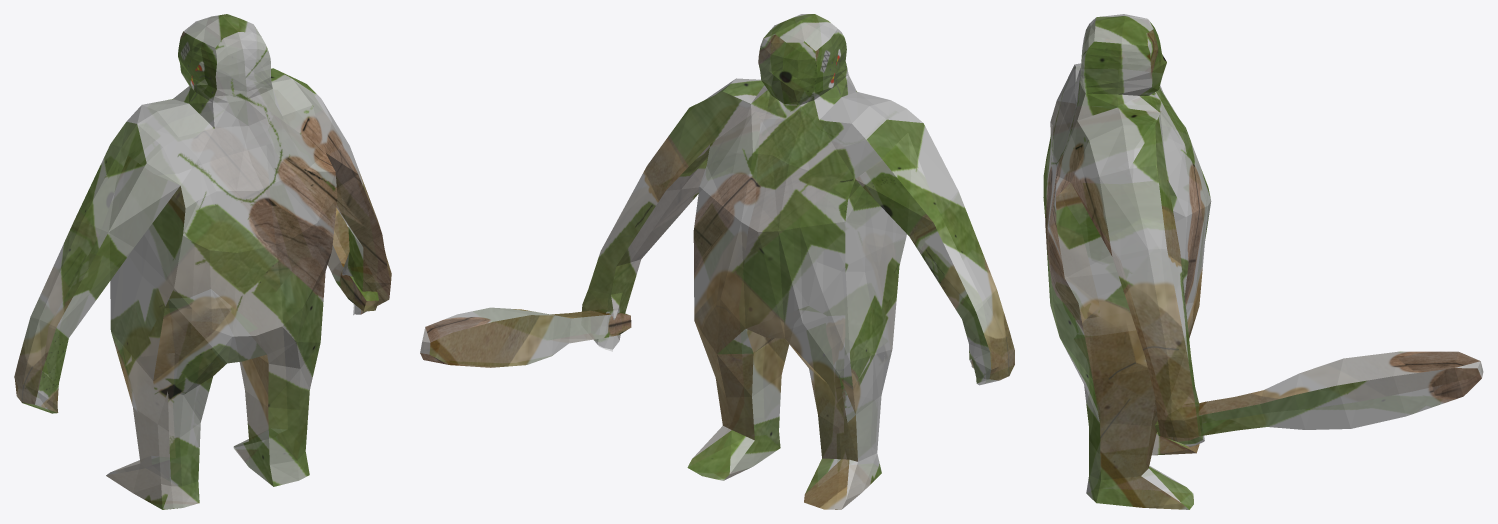
Rendered from Enemigo227.obj.
3 views of the same model, side by side, from view 1: azimuth 30°, elevation 25°; view 2: azimuth 150°, elevation 25°; view 3: azimuth 270°, elevation 25° (orthographic). The views are drawn at different scales.
Visible parts, largest first — view 1: Cube; view 2: Cube; view 3: Cube.
Part boxes in pixels (box(x1,y1,x2,y2)): Cube: box(14, 14, 391, 509); Cube: box(420, 14, 1014, 509); Cube: box(1043, 14, 1483, 509).
Size of the model in its own units: 2.61 by 2.71 by 2.36.
1 material, 1 textured.
